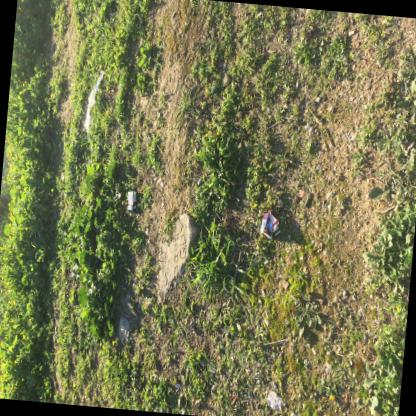Paper: (261, 210, 280, 238), (128, 190, 137, 213), (275, 229, 281, 235)
Plastic: (85, 70, 105, 132)
